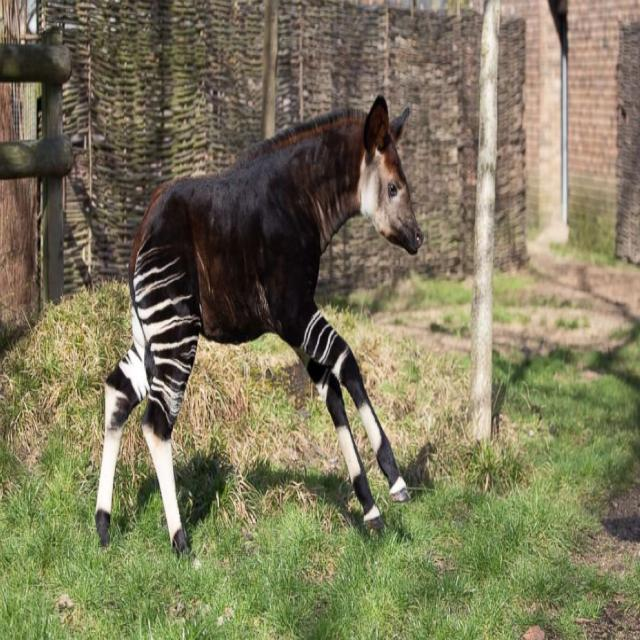Okapi: (92, 85, 424, 560)
